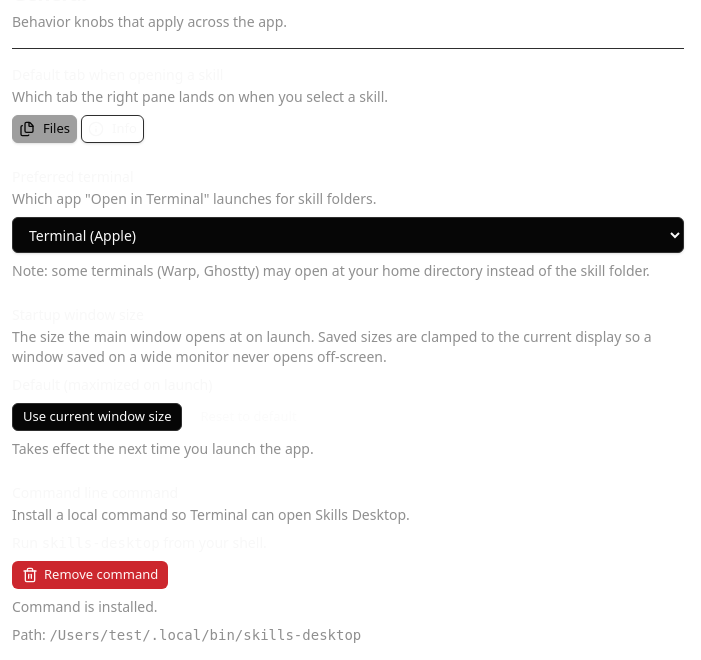
Scenario: Settings → General command line command › removes the command and switches the action back to installation
This screenshot has width=701, height=660.
Click the button "Remove command": x=90, y=575 [12,561,168,589]
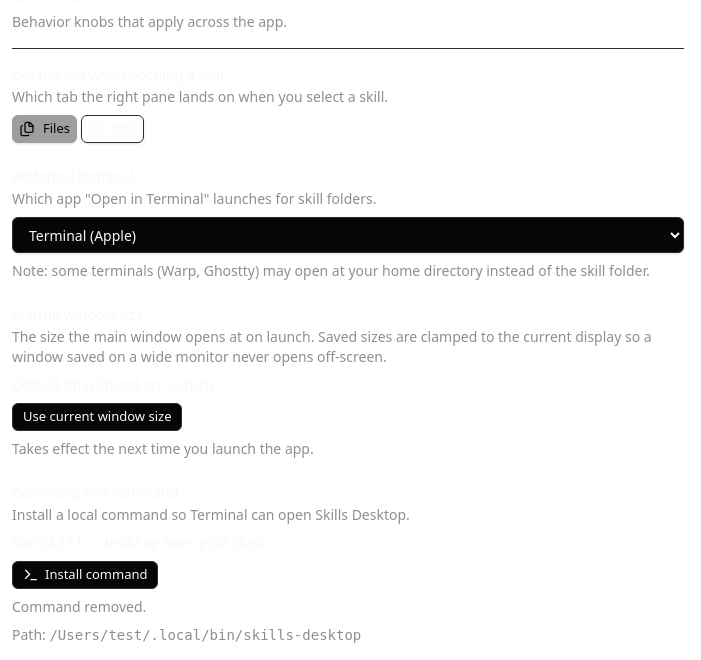
Result: the button "Install command" is shown at [12,561,158,589]
